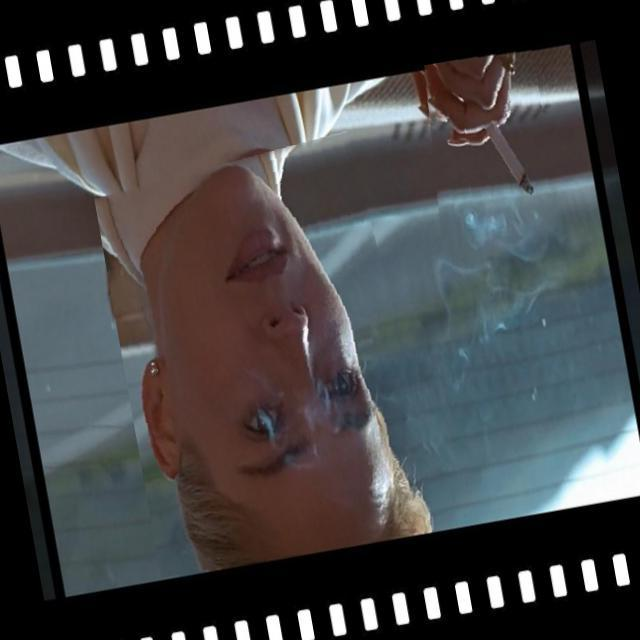cigarette: (412, 48, 564, 248)
